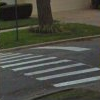crosswalk: (1, 53, 100, 87)
